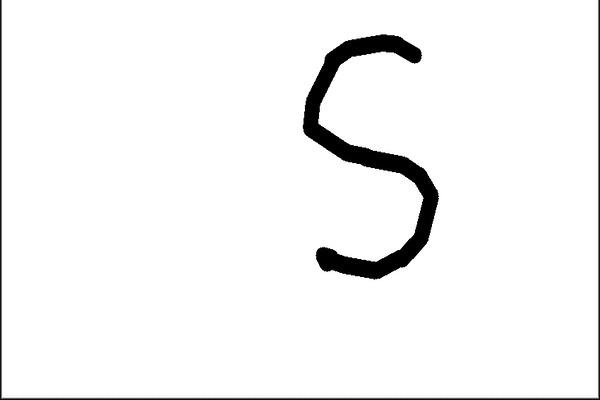S: (296, 27, 442, 281)
